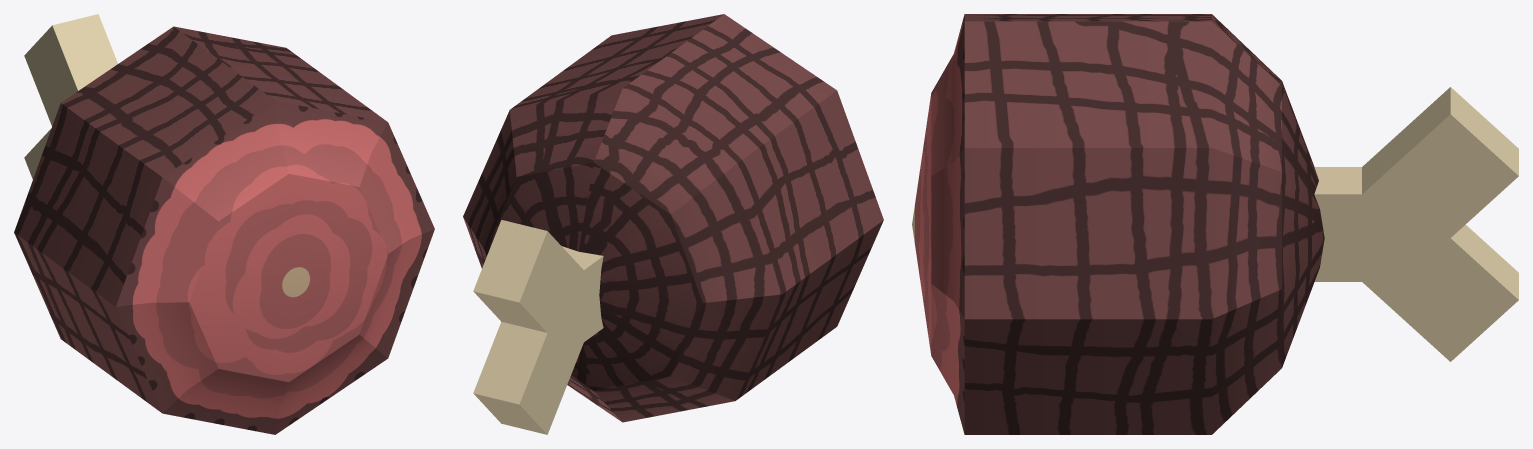
Rendered from Treat_Ham.fbx.
3 views of the same model, side by side, from view 1: azimuth 30°, elevation 25°; view 2: azimuth 150°, elevation 25°; view 3: azimuth 270°, elevation 25° (orthographic). The views are drawn at different scales.
Parts seen in each view (by area): view 1: meat_geo, boneEnd_geo; view 2: meat_geo, boneEnd_geo, boneMiddle_geo; view 3: meat_geo, boneEnd_geo, boneMiddle_geo.
Part boxes in pixels (x1,y1,x2,y2): meat_geo: [14, 26, 434, 434]; boneEnd_geo: [24, 14, 117, 179]; meat_geo: [463, 14, 883, 422]; boneEnd_geo: [473, 220, 599, 434]; boneMiddle_geo: [562, 246, 603, 341]; meat_geo: [912, 14, 1324, 434]; boneEnd_geo: [1323, 87, 1518, 361]; boneMiddle_geo: [1314, 167, 1361, 281].
Bounding box in the file's own units: 4.63 × 4.63 × 6.28.
Materials: 2 (1 with a texture image).
